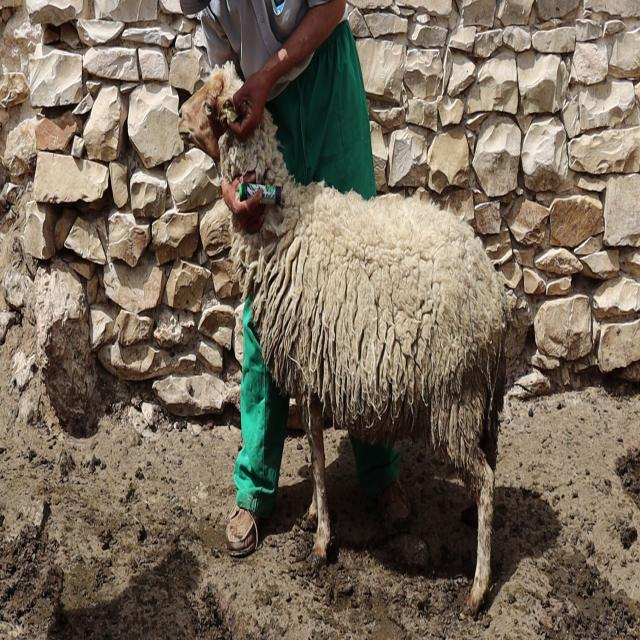Score_3: (178, 68, 511, 612)
